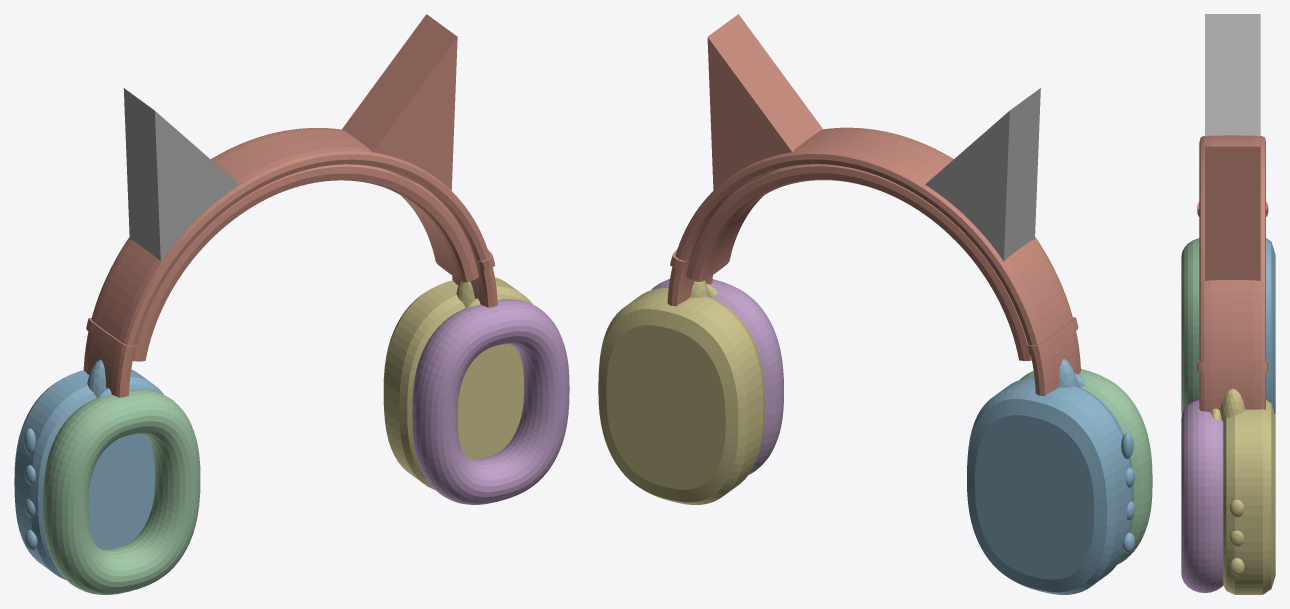
3 renders of one model, left to right at view 1: azimuth 30°, elevation 25°; view 2: azimuth 150°, elevation 25°; view 3: azimuth 270°, elevation 25°, orthographic. The views are drawn at different scales.
Visible parts, largest first — view 1: geometry_0; view 2: geometry_0; view 3: geometry_0.
Boxes of the visible parts, x1=… form: geometry_0: x1=14, y1=14, x2=569, y2=594; geometry_0: x1=598, y1=14, x2=1152, y2=594; geometry_0: x1=1181, y1=14, x2=1275, y2=594.
Bounding box in the file's own units: 253 × 218 × 44.
